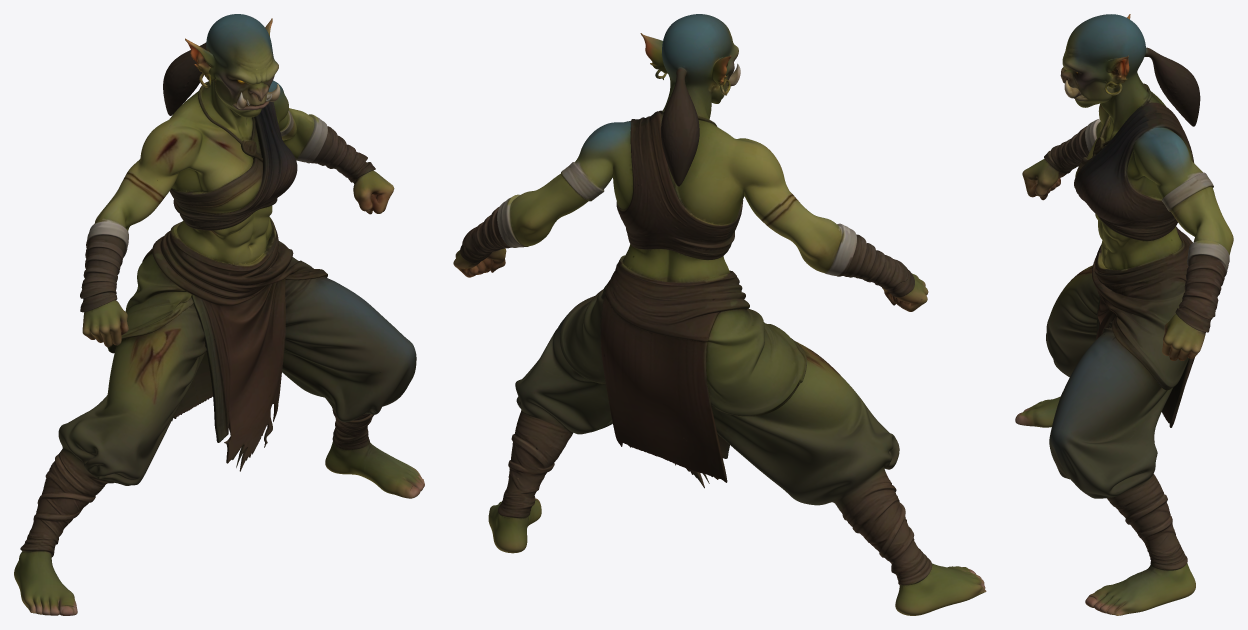
File: half_orc_monk_full_female_01.glb
3 renders of one model, left to right at view 1: azimuth 30°, elevation 25°; view 2: azimuth 150°, elevation 25°; view 3: azimuth 270°, elevation 25°, orthographic. The views are drawn at different scales.
Parts seen in each view (by area): view 1: material; view 2: material; view 3: material.
Part boxes in pixels (x1,y1,x2,y2): material: (14,14,424,615); material: (453,14,986,615); material: (1015,14,1233,615).
Size of the model in its own units: 0.7773 by 0.8813 by 0.3437.
Materials: 1 (1 with a texture image).
